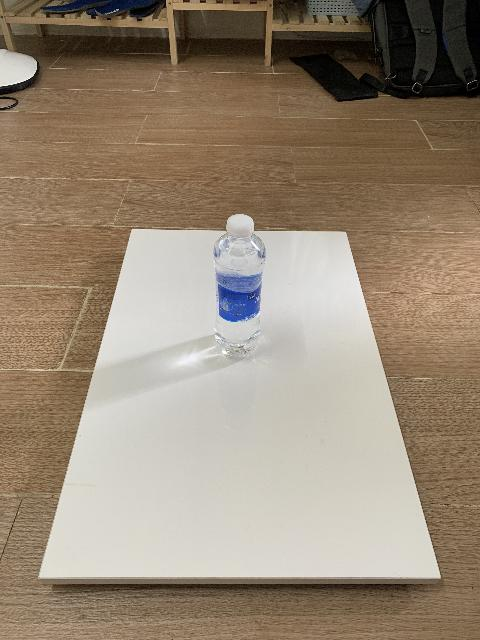aquafina: (213, 214, 266, 357)
